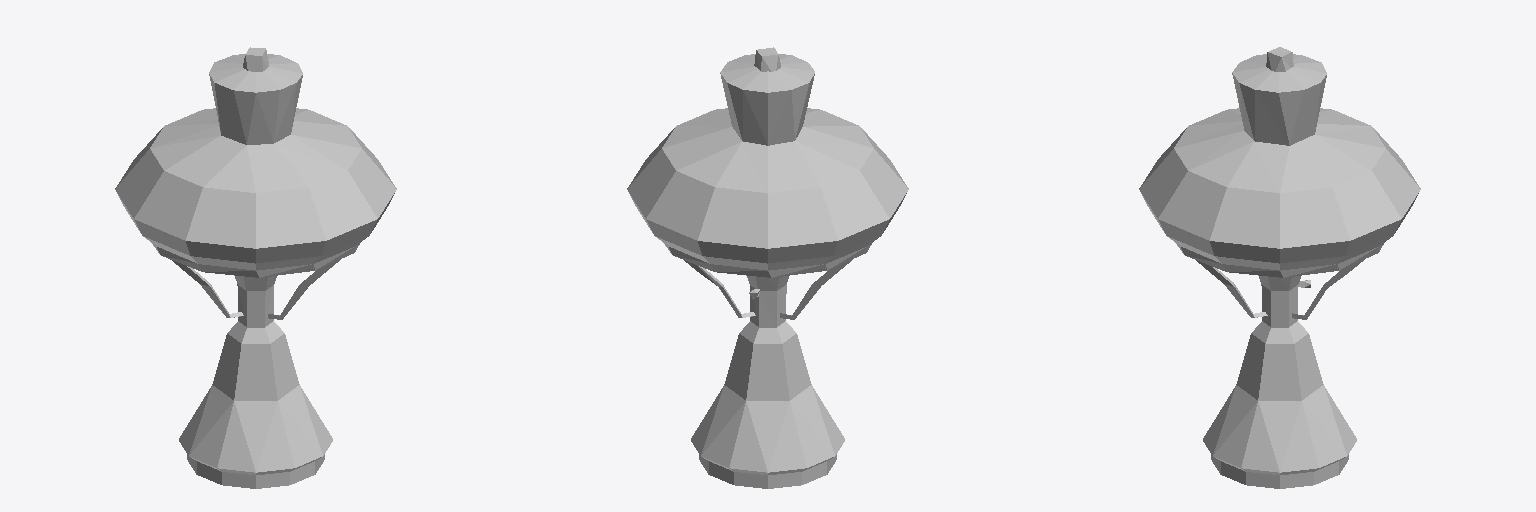
Rendered from Light02_table.obj.
The picture shows the model from 3 angles: view 1: azimuth 30°, elevation 25°; view 2: azimuth 150°, elevation 25°; view 3: azimuth 270°, elevation 25°; orthographic projection.
Parts seen in each view (by area): view 1: Light02_Table_LOD0_Circle.001; view 2: Light02_Table_LOD0_Circle.001; view 3: Light02_Table_LOD0_Circle.001.
Part boxes in pixels (x1,y1,x2,y2): Light02_Table_LOD0_Circle.001: (115, 47, 396, 488); Light02_Table_LOD0_Circle.001: (627, 47, 908, 488); Light02_Table_LOD0_Circle.001: (1139, 47, 1420, 488).
Size of the model in its own units: 0.3 by 0.4794 by 0.3.